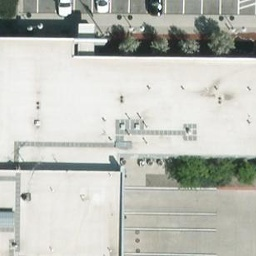car: (145, 1, 160, 16), (57, 1, 71, 15), (96, 1, 109, 11)
